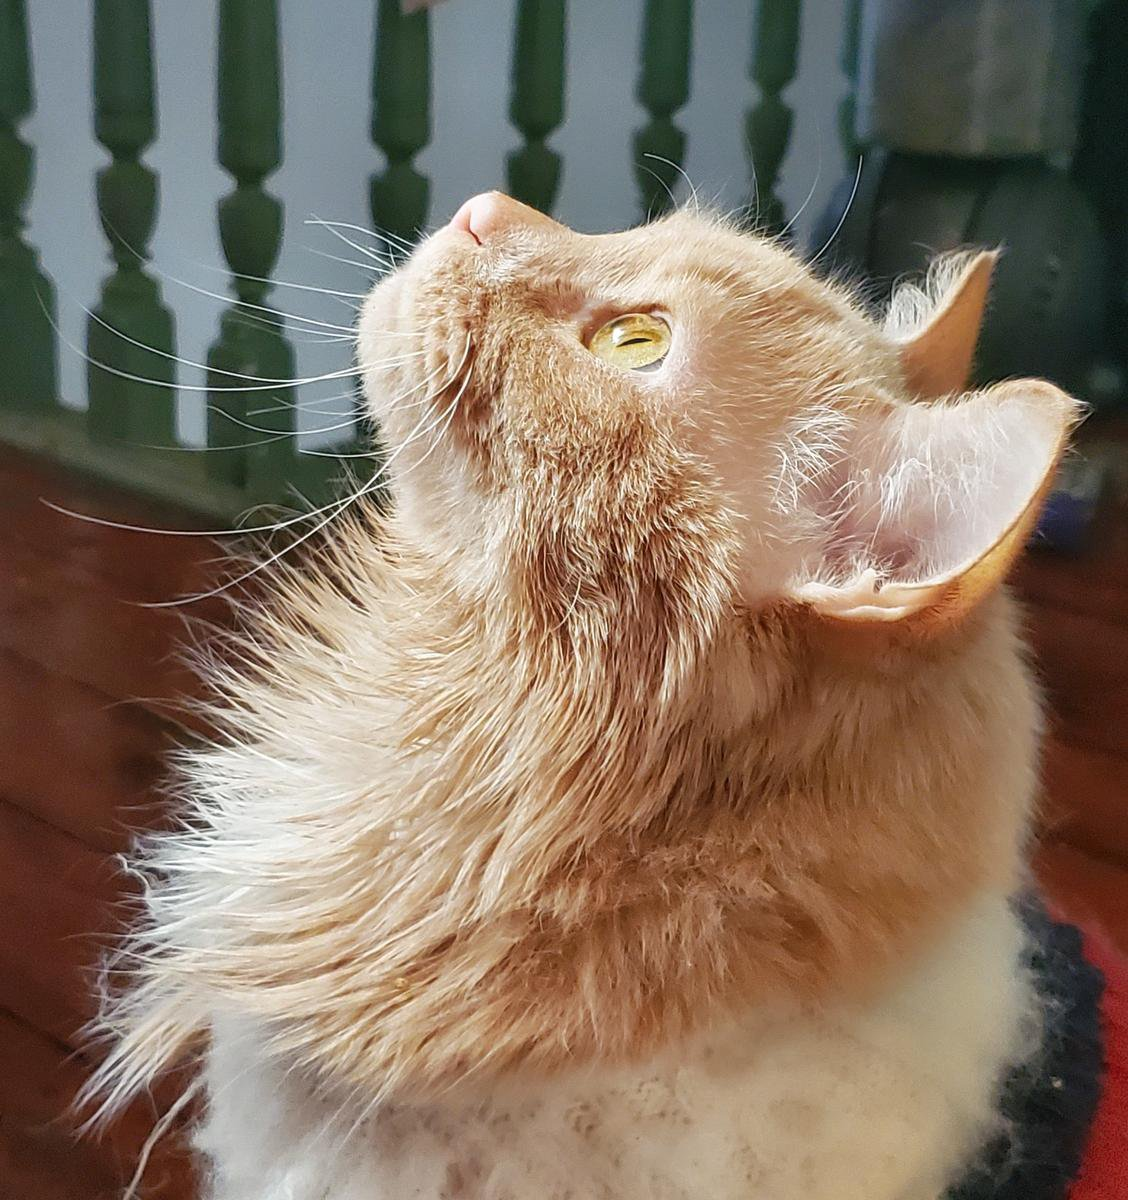cat: (213, 169, 1079, 1200)
